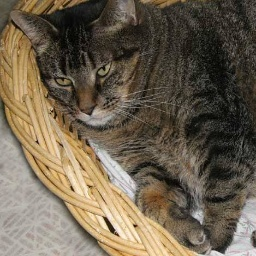cat: (14, 4, 256, 245)
